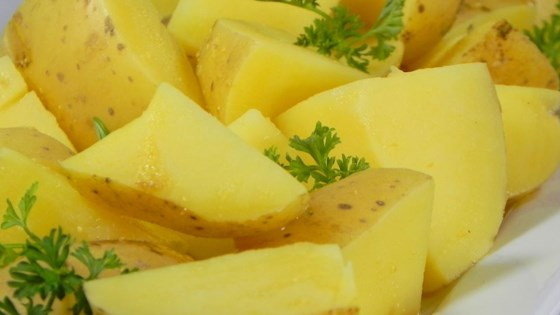boiled potatoes: (3, 2, 546, 315)
